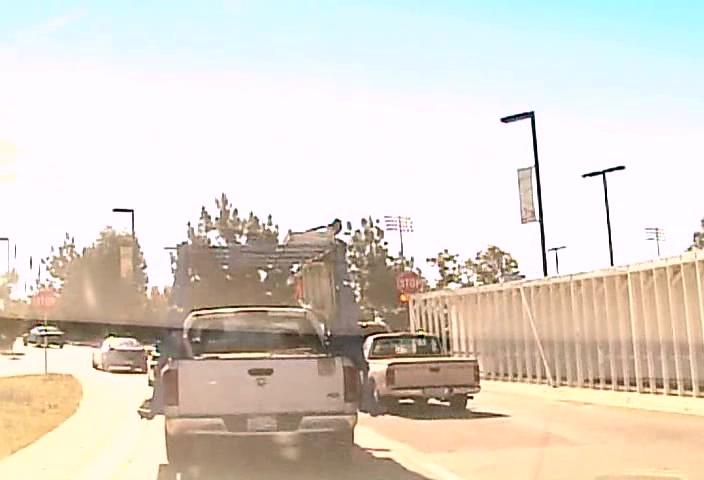stop: (395, 269, 421, 296)
